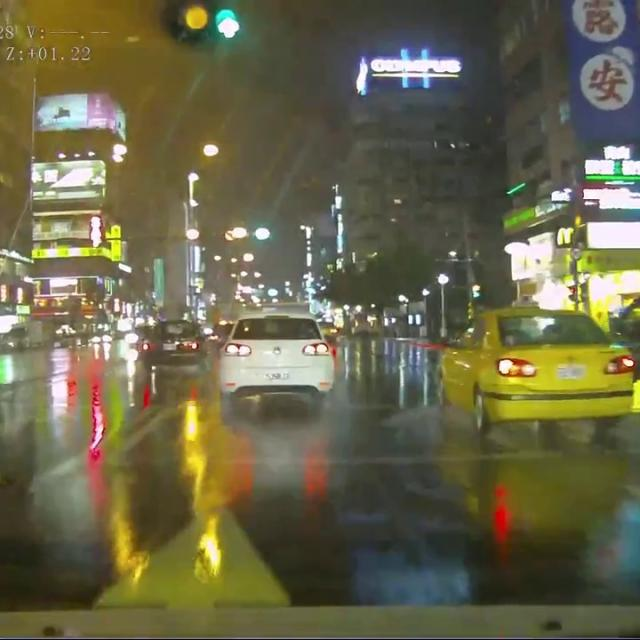Car: (426, 304, 635, 424), (216, 311, 338, 396), (127, 319, 214, 366), (317, 316, 335, 343)
